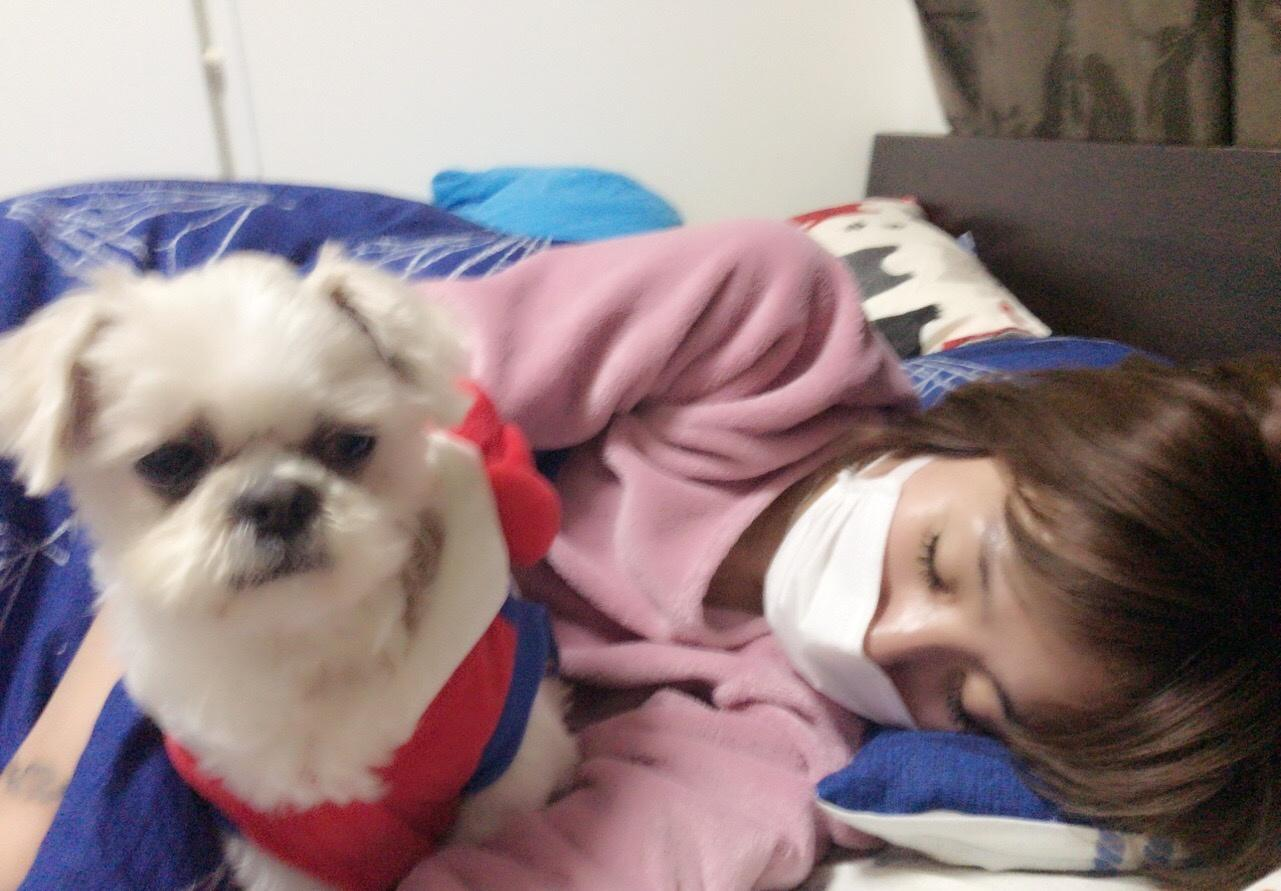WRONG: (764, 454, 1072, 762)
